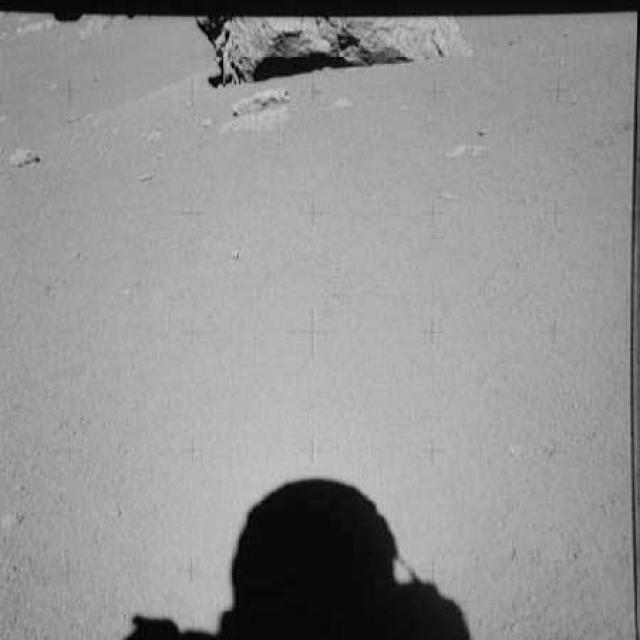rock: (198, 12, 484, 84), (220, 83, 294, 121), (7, 138, 46, 172)
